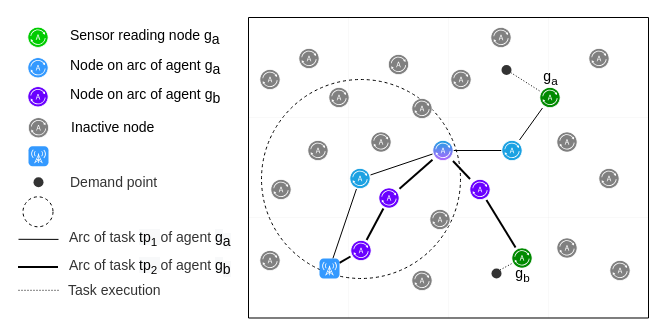
This 666x336 diagram has some shape labels left out. Each missing label, with the centre of its shape:
"Broadcast radius of agent" belongs at point 37,211.
"g sink" belongs at point 329,268.
"Sink node" belongs at point 38,156.
